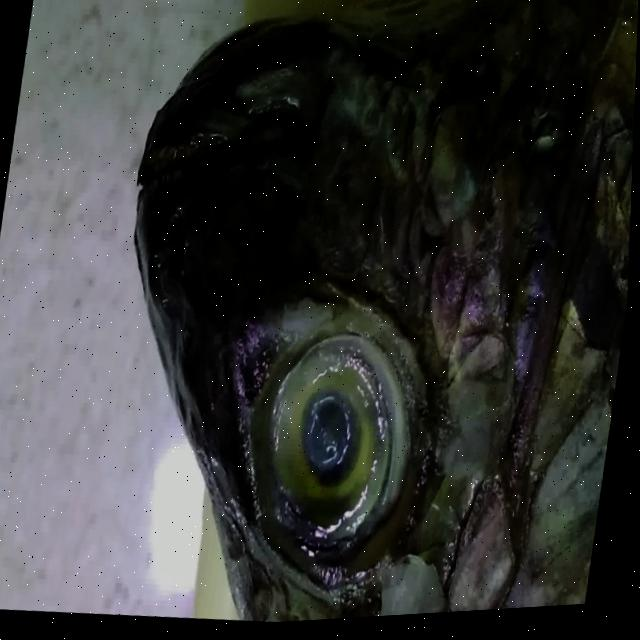Non-Fresh: (252, 321, 417, 534)
